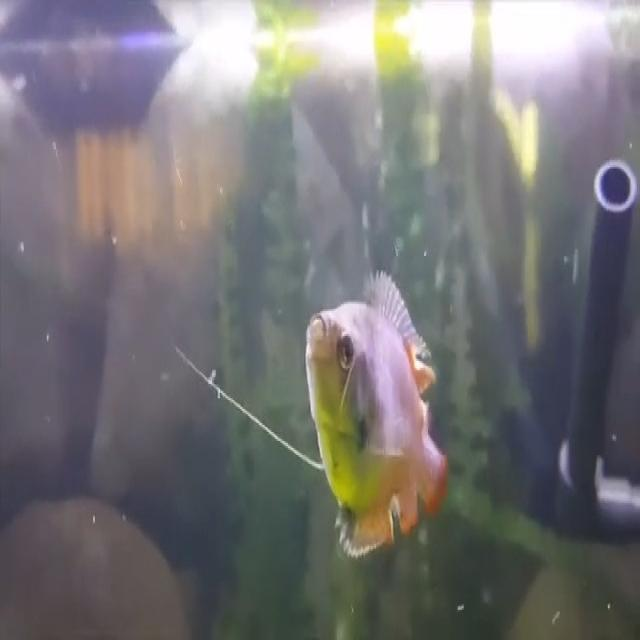fish: (300, 267, 452, 566)
